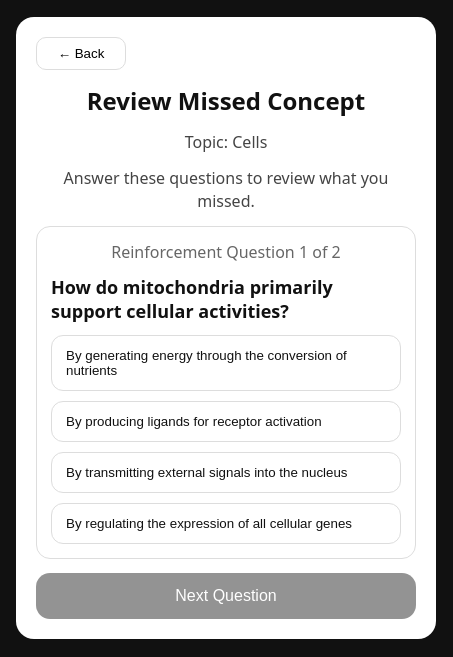
Test case: ReinforcementScreen › moves to the next reinforcement question
What coordinates should you click on to do the following:
click the button "By generating energy through the conversion of nutrients"
I would click on:
 (226, 363)
Its box is 51,335 -> 401,391.
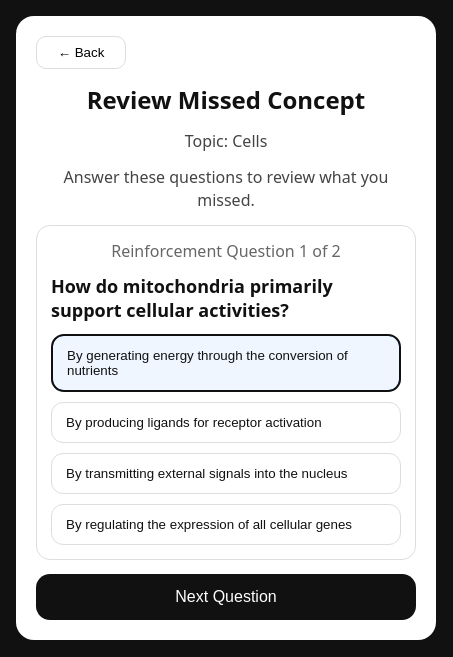
What coordinates should you click on to do the following:
click the button "Next Question"
I would click on:
 (226, 597)
Its box is 36,574 -> 416,620.
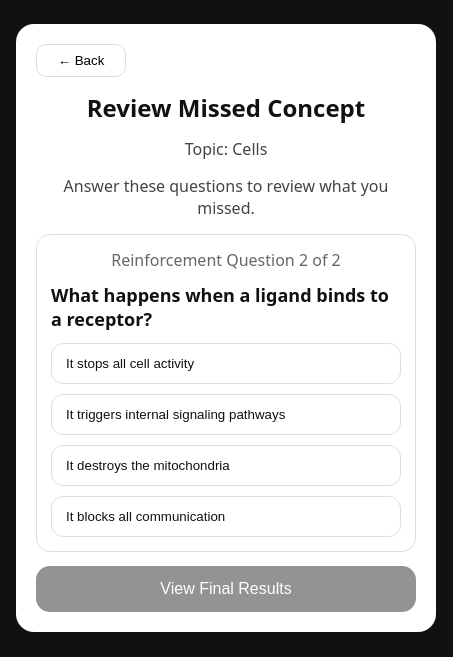
Check: the text "Reinforcement Question 2 of 2" is shown, box 111,249 -> 341,271
Check: the text "What happens when a ligand binds to a receptor?" is shown, box 51,283 -> 401,331
